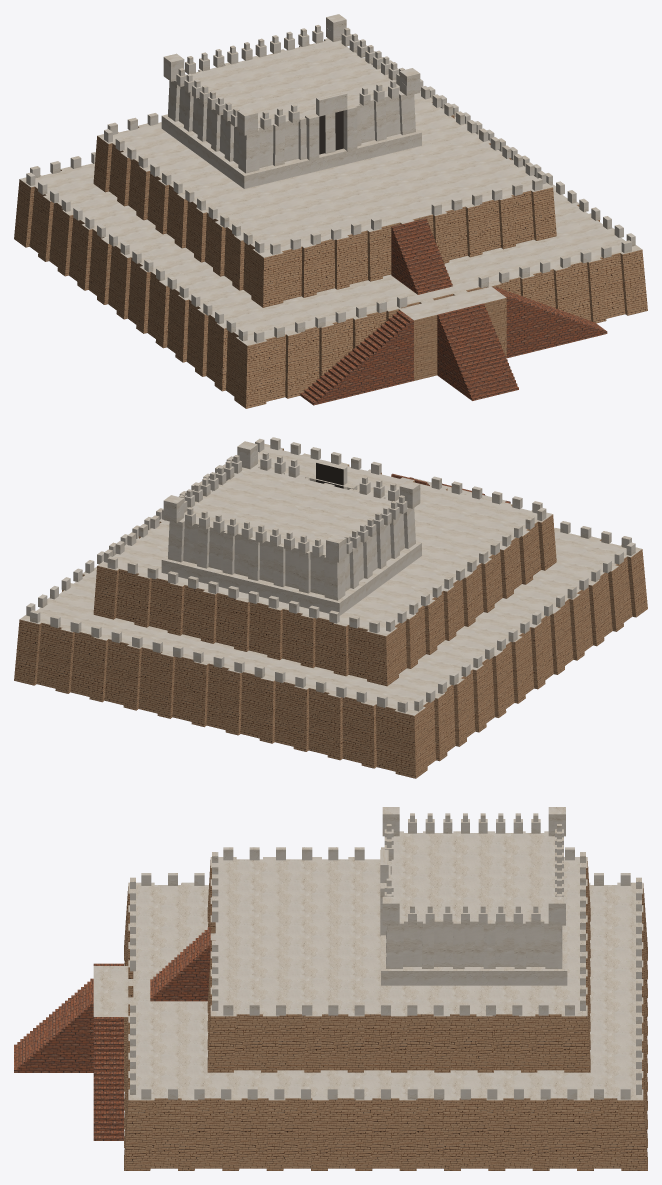
File: ziggurat_anu.glb
3 views of the same model, one above another, from view 1: azimuth 30°, elevation 25°; view 2: azimuth 150°, elevation 25°; view 3: azimuth 270°, elevation 25° (orthographic). The views are drawn at different scales.
Visible parts, largest first — view 1: anu_new; view 2: anu_new; view 3: anu_new.
Part boxes in pixels (<box>): anu_new: <box>14,14,647,408</box>; anu_new: <box>14,437,647,778</box>; anu_new: <box>14,807,647,1170</box>.
Bounding box in the file's own units: 52 × 22.4 × 62.9.
Materials: 4 (3 with a texture image).
